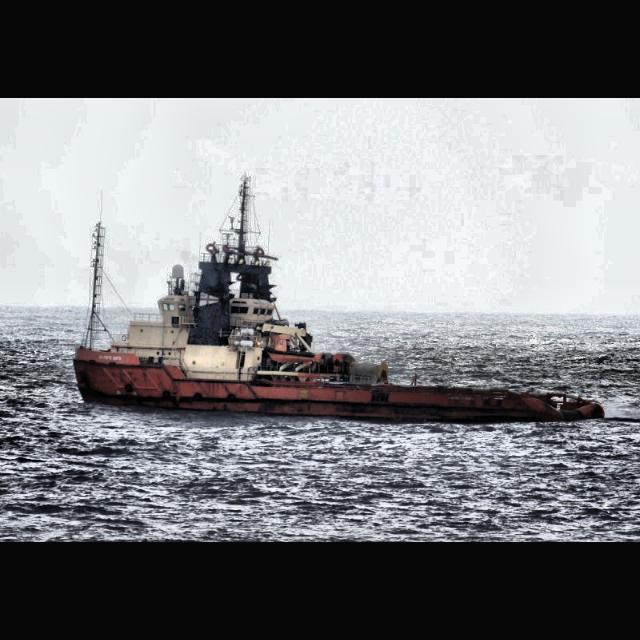anchor_handling_tug_supply: (73, 230, 609, 426)
